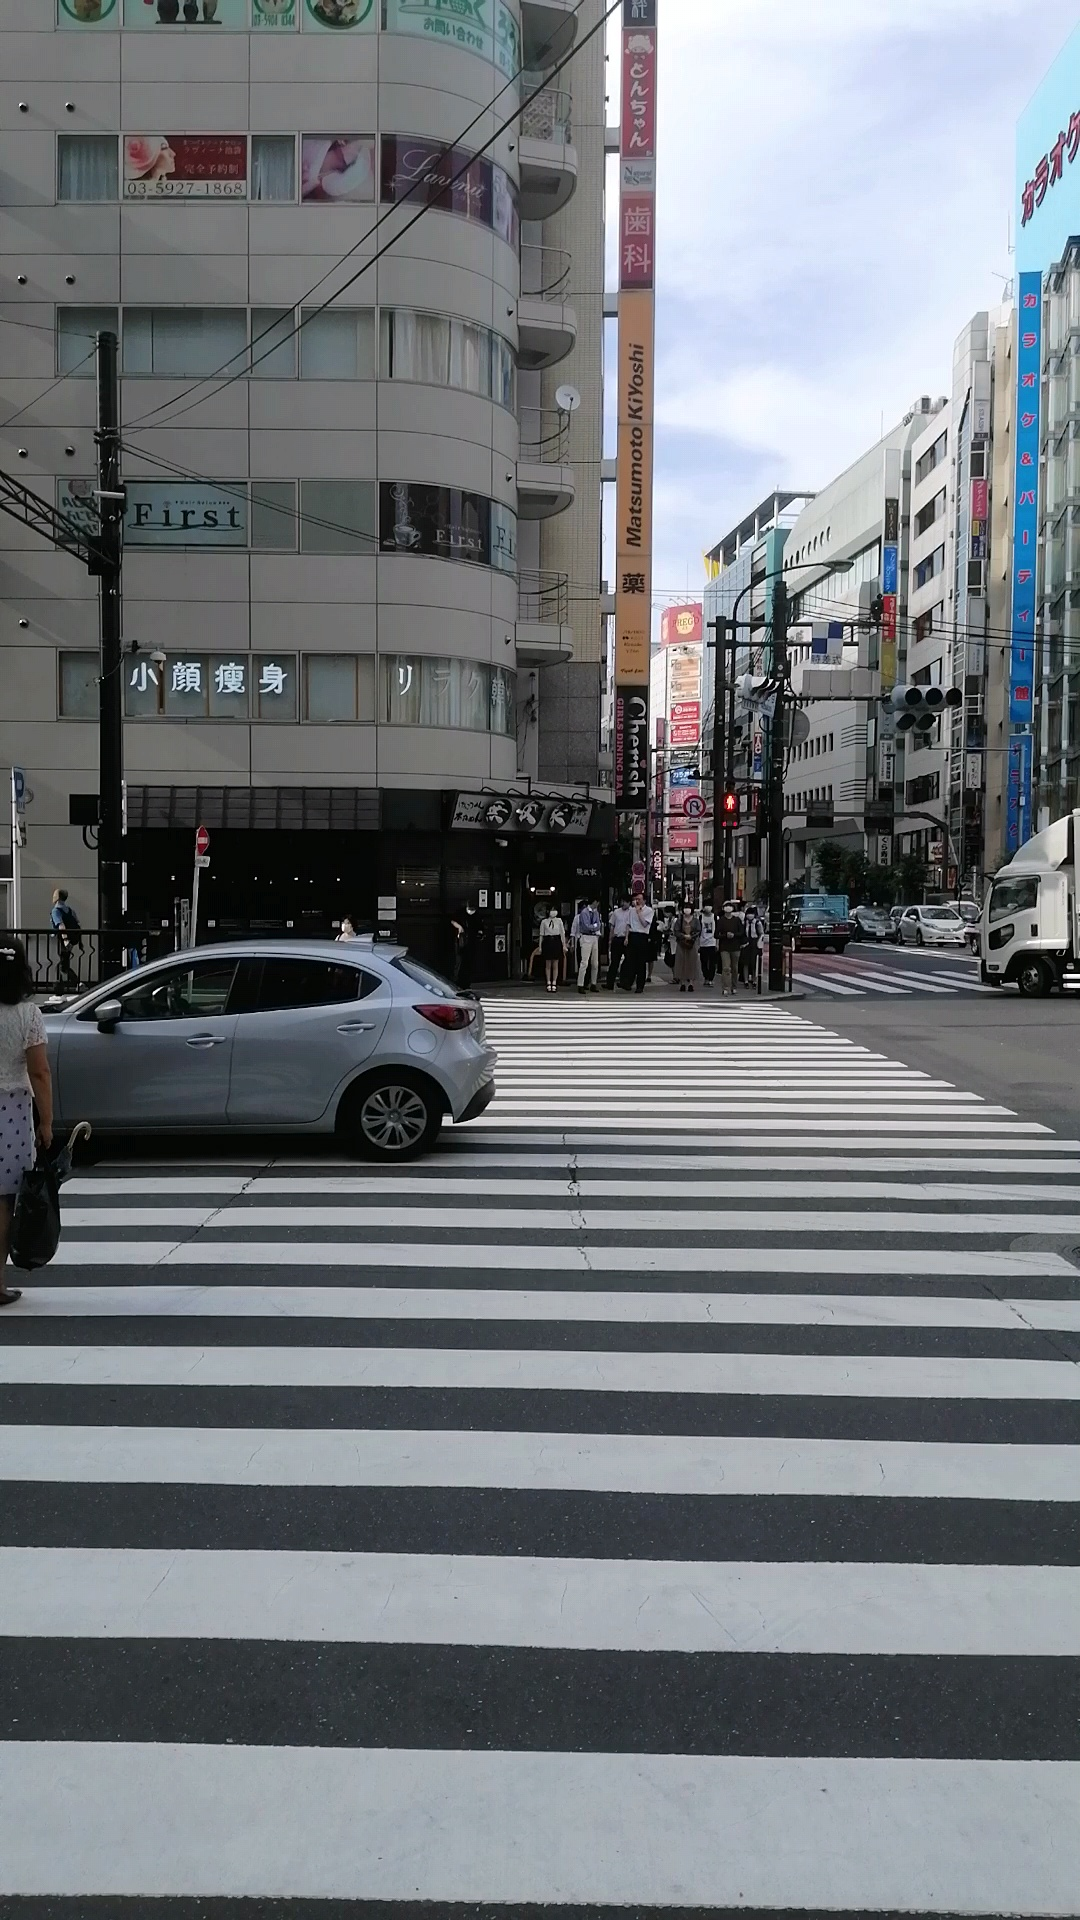red: (713, 793, 740, 832)
